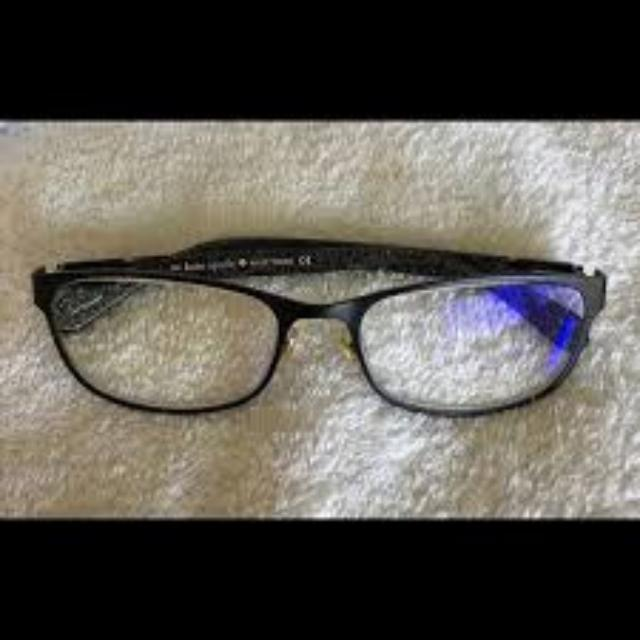glasses: (28, 237, 610, 417)
